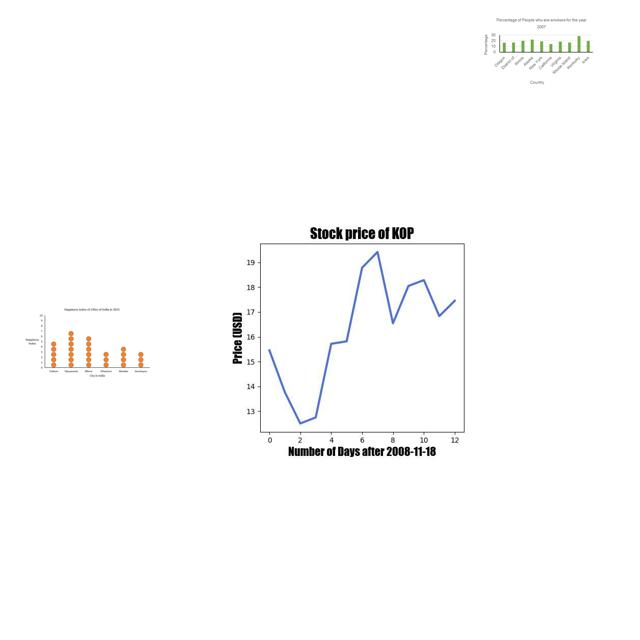Graph: (195, 214, 521, 459), (22, 306, 151, 381), (481, 16, 595, 86)
